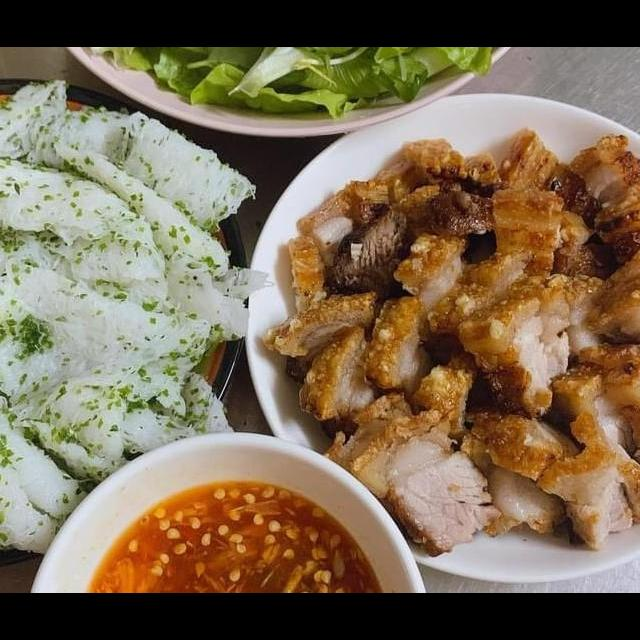banh hoi: (0, 252, 213, 495), (42, 131, 235, 283), (0, 146, 167, 286), (106, 106, 260, 238), (0, 383, 91, 563), (0, 115, 76, 280), (0, 70, 74, 174)
banh hoi heo quay: (0, 83, 640, 592)
thit heo quay: (258, 121, 606, 562), (451, 266, 614, 424), (540, 337, 640, 513), (529, 405, 640, 555), (563, 127, 640, 240), (578, 233, 640, 373)
